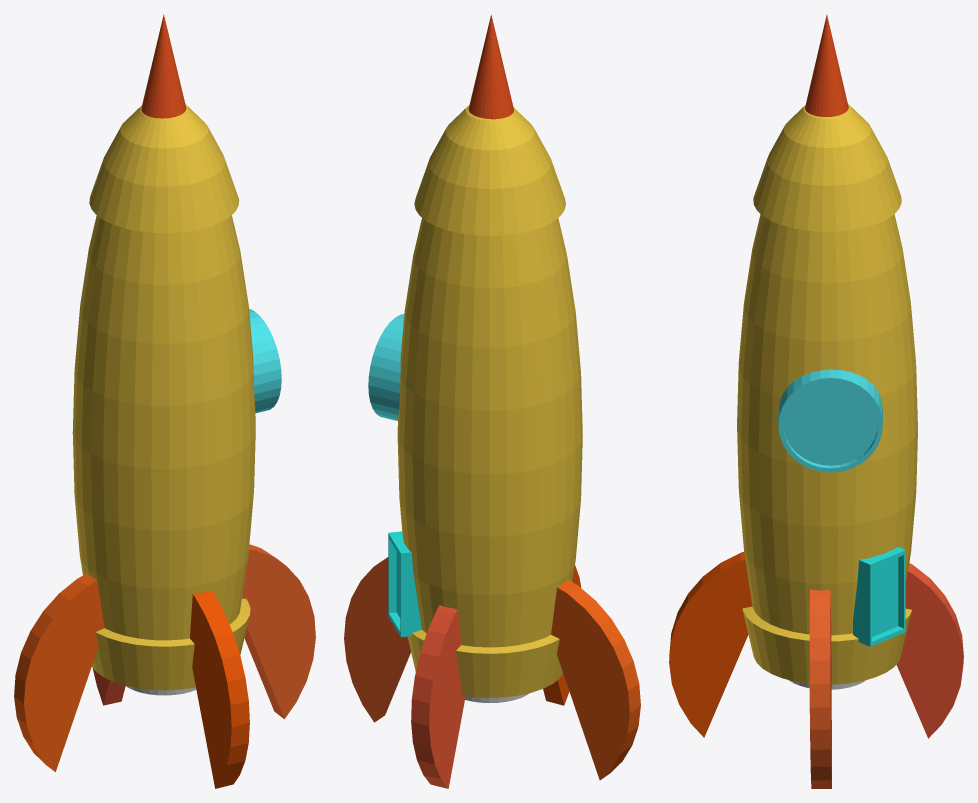
Rendered from foguete.fbx.
3 renders of one model, left to right at view 1: azimuth 30°, elevation 25°; view 2: azimuth 150°, elevation 25°; view 3: azimuth 270°, elevation 25°, orthographic. The views are drawn at different scales.
Visible parts, largest first — view 1: Esfera UV, Cilindro.001, Cilindro.003, Cilindro.002, Cone, Cilindro.004, Cilindro; view 2: Esfera UV, Cilindro.001, Cilindro, Cilindro.003, Cilindro.004, Cubo, Cone, Cilindro.002; view 3: Esfera UV, Cilindro.002, Cilindro.004, Cilindro, Cilindro.003, Cubo, Cone.
Part boxes in pixels (<box>): Esfera UV: <box>72,104,255,690</box>; Cilindro.001: <box>14,573,104,771</box>; Cilindro.003: <box>242,544,315,719</box>; Cilindro.002: <box>190,590,249,788</box>; Cone: <box>141,14,186,118</box>; Cilindro.004: <box>249,308,281,413</box>; Cilindro: <box>92,668,125,705</box>; Esfera UV: <box>397,105,582,697</box>; Cilindro.001: <box>551,579,640,780</box>; Cilindro: <box>411,605,465,788</box>; Cilindro.003: <box>344,557,410,722</box>; Cilindro.004: <box>368,314,404,420</box>; Cubo: <box>388,531,421,637</box>; Cone: <box>468,15,513,119</box>; Cilindro.002: <box>543,565,581,705</box>; Esfera UV: <box>737,104,917,684</box>; Cilindro.002: <box>669,552,752,737</box>; Cilindro.004: <box>778,369,882,472</box>; Cilindro: <box>896,563,963,738</box>; Cilindro.003: <box>809,589,831,788</box>; Cubo: <box>853,547,905,646</box>; Cone: <box>805,14,848,116</box>.
Size of the model in its own units: 363 by 875 by 325.
